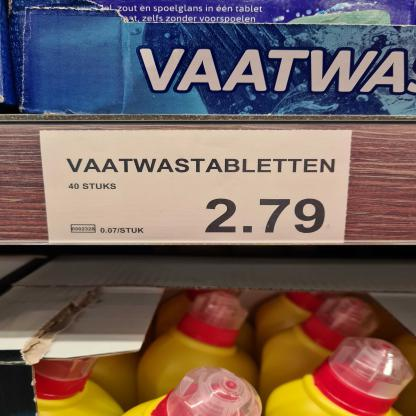prtg: (41, 131, 353, 245)
